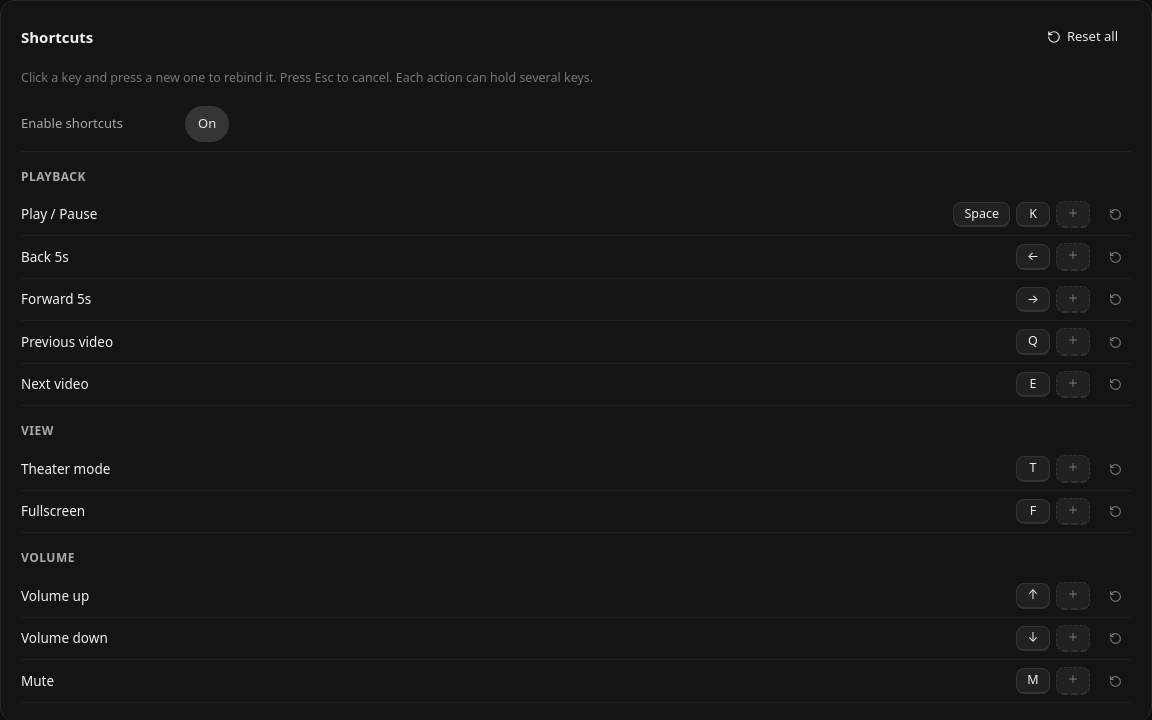
it: ShortcutSettings › cancels recording on Escape without changing the binding
This screenshot has width=1152, height=720.
Click the button "Q" at (1033, 342), box 1016,329 -> 1050,355
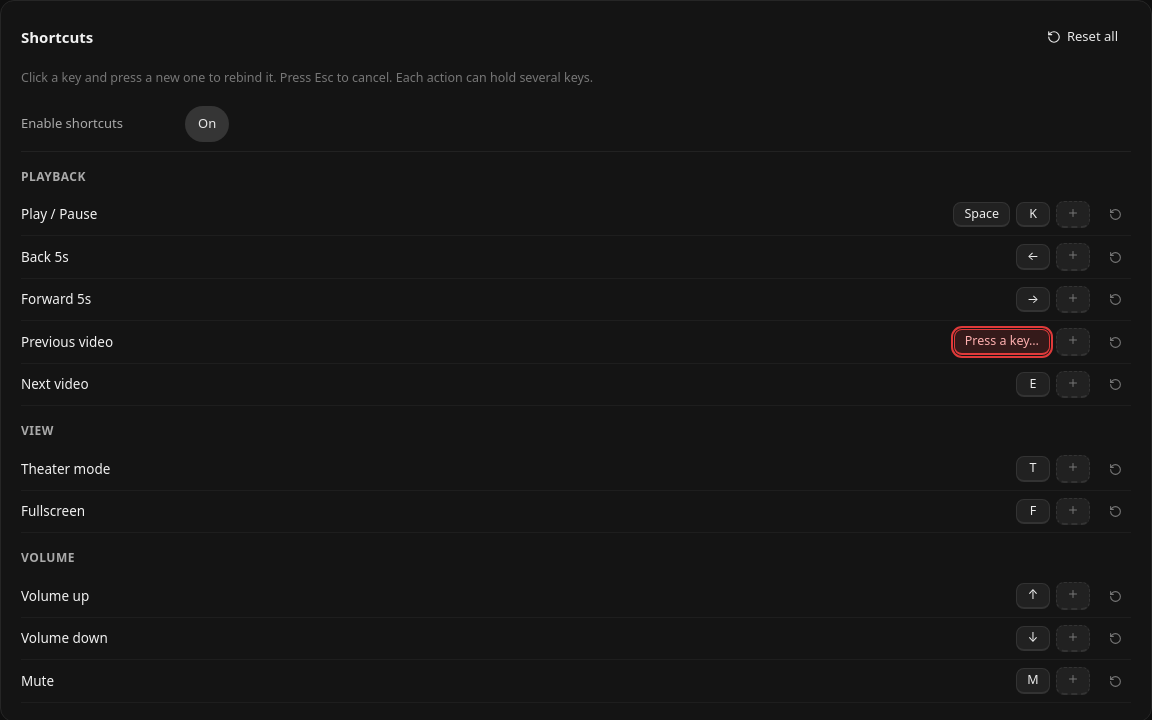
Press Escape
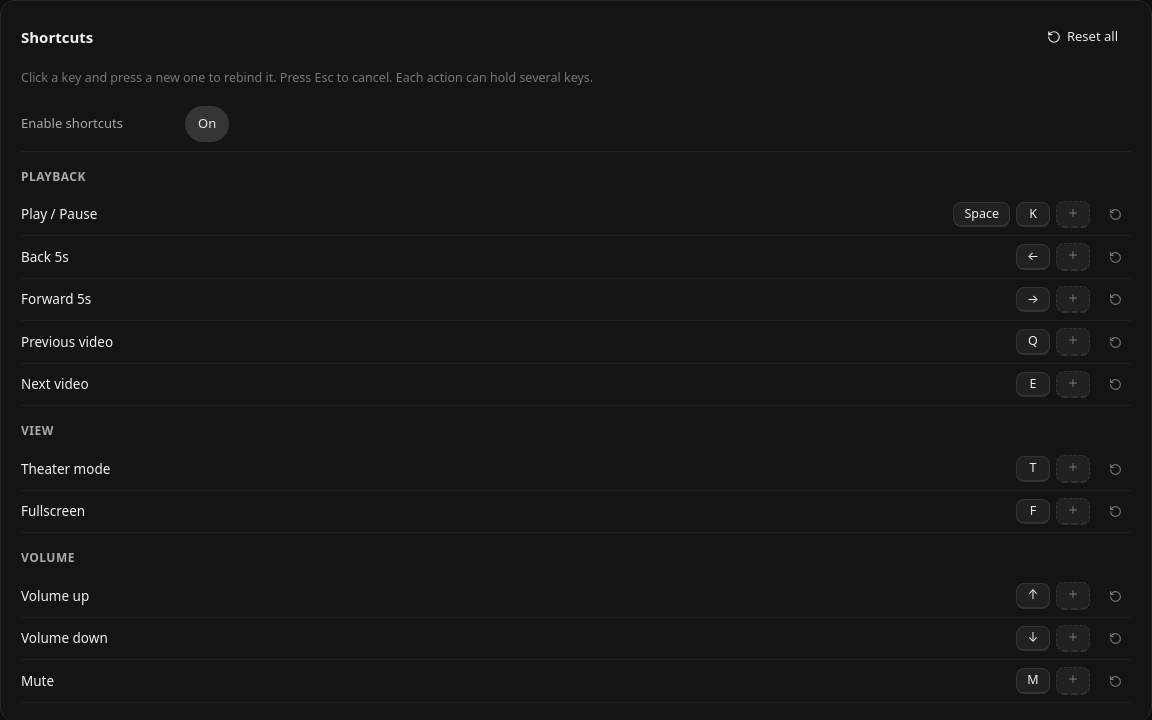
Now the button "Press a key…" is gone
